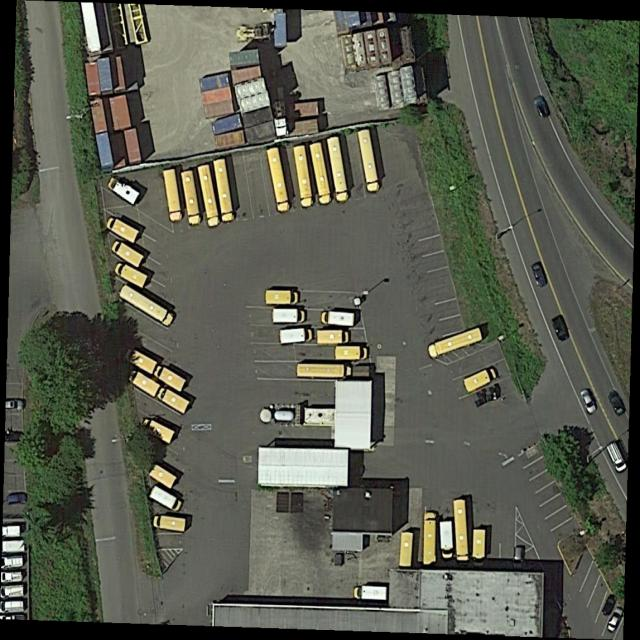large-vehicle: (119, 285, 176, 328), (428, 327, 483, 359), (326, 135, 350, 204), (267, 148, 291, 213), (359, 128, 381, 193), (213, 158, 235, 223), (199, 165, 221, 229), (310, 143, 331, 205), (294, 145, 314, 208), (107, 173, 143, 206), (163, 170, 184, 223), (148, 483, 183, 514), (182, 171, 201, 227), (461, 367, 499, 395), (104, 214, 139, 244), (114, 262, 150, 290), (297, 363, 352, 380), (155, 364, 187, 393), (156, 387, 189, 415), (454, 500, 469, 561), (112, 240, 144, 268), (129, 370, 160, 398), (144, 419, 176, 445), (148, 464, 177, 489), (128, 350, 158, 374), (424, 509, 436, 567), (280, 327, 314, 347), (607, 442, 628, 474), (320, 309, 356, 327), (155, 515, 187, 534), (272, 308, 306, 325), (441, 519, 454, 561), (266, 290, 299, 306), (356, 585, 387, 602), (400, 532, 414, 567), (336, 347, 369, 361), (473, 530, 485, 566), (317, 331, 350, 343), (2, 541, 26, 552), (2, 527, 21, 537)
small-vehicle: (608, 389, 628, 417), (605, 606, 624, 633), (579, 388, 598, 415), (552, 315, 570, 343), (601, 594, 618, 617), (532, 263, 546, 290), (535, 95, 549, 117), (7, 492, 27, 507), (1, 586, 23, 598), (2, 601, 25, 612), (514, 547, 524, 571), (3, 556, 23, 568), (4, 432, 23, 442), (6, 400, 25, 410), (2, 573, 23, 582)
